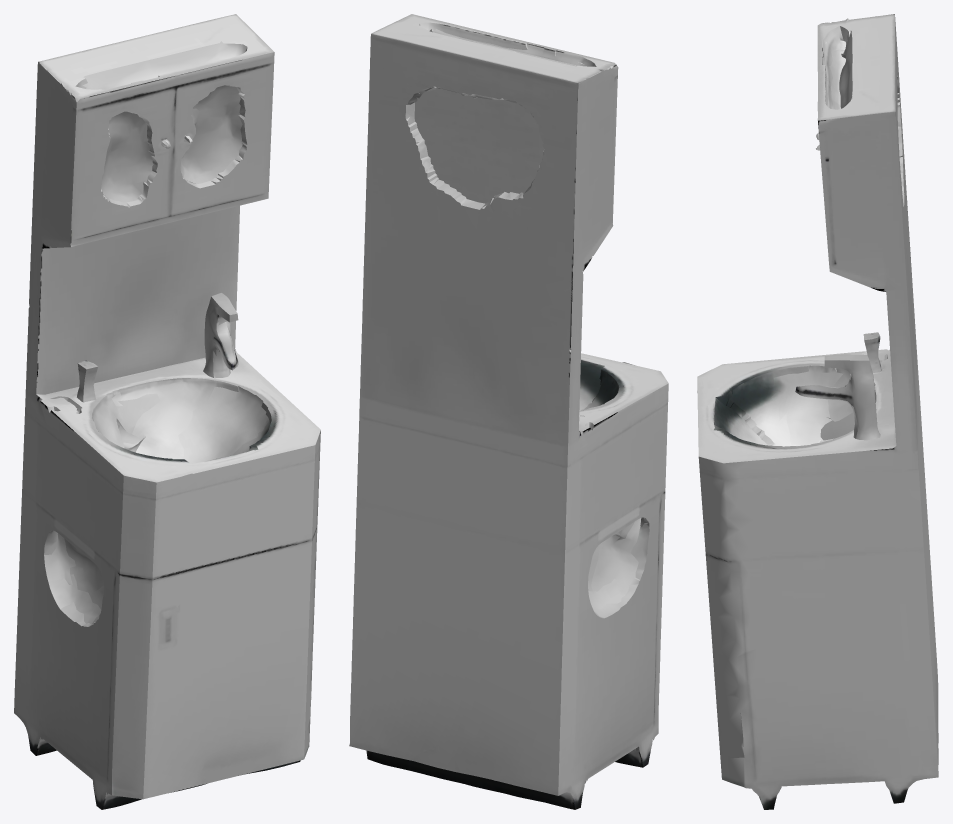
3 renders of one model, left to right at view 1: azimuth 30°, elevation 25°; view 2: azimuth 150°, elevation 25°; view 3: azimuth 270°, elevation 25°, orthographic. The views are drawn at different scales.
Size of the model in its own units: 0.4799 by 1.6 by 0.5001.
Materials: 1 (1 with a texture image).
